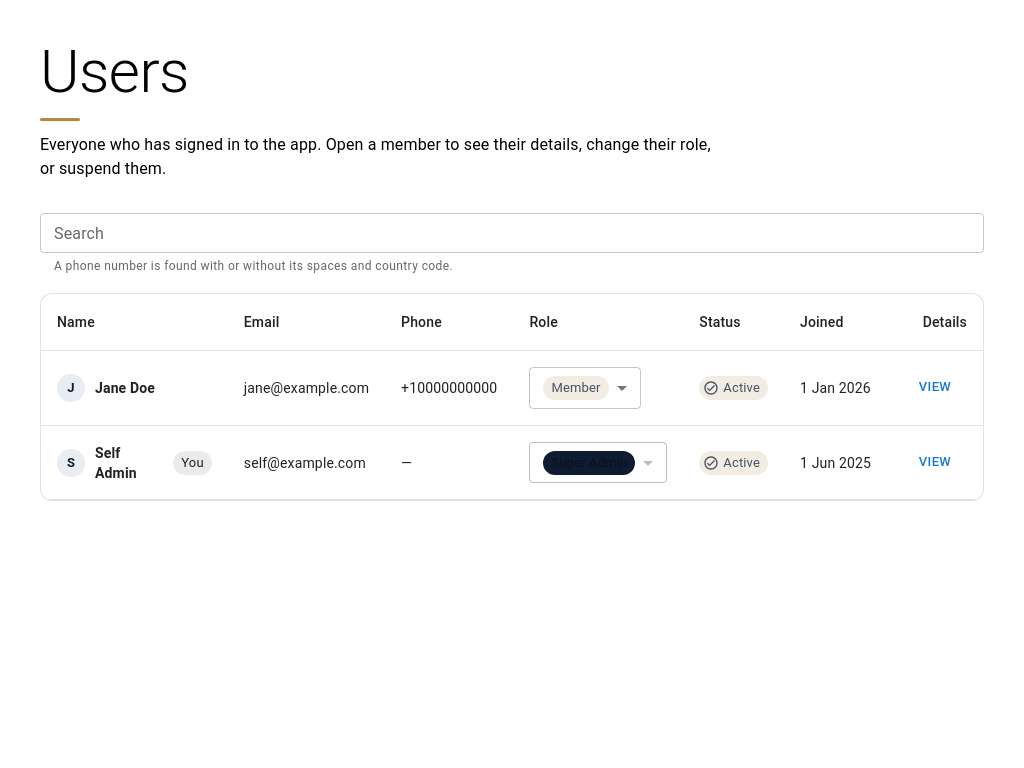
Test case: the suspension dialogue › offers temporary durations and a permanent option
expect the row with test id "user-row-other-uid" is shown: met, box x1=41 y1=350 x2=983 y2=425
Step 1. Click the button "View" in the row of "Jane Doe" → [935, 388], box x1=903 y1=372 x2=967 y2=403
(page scrolled)
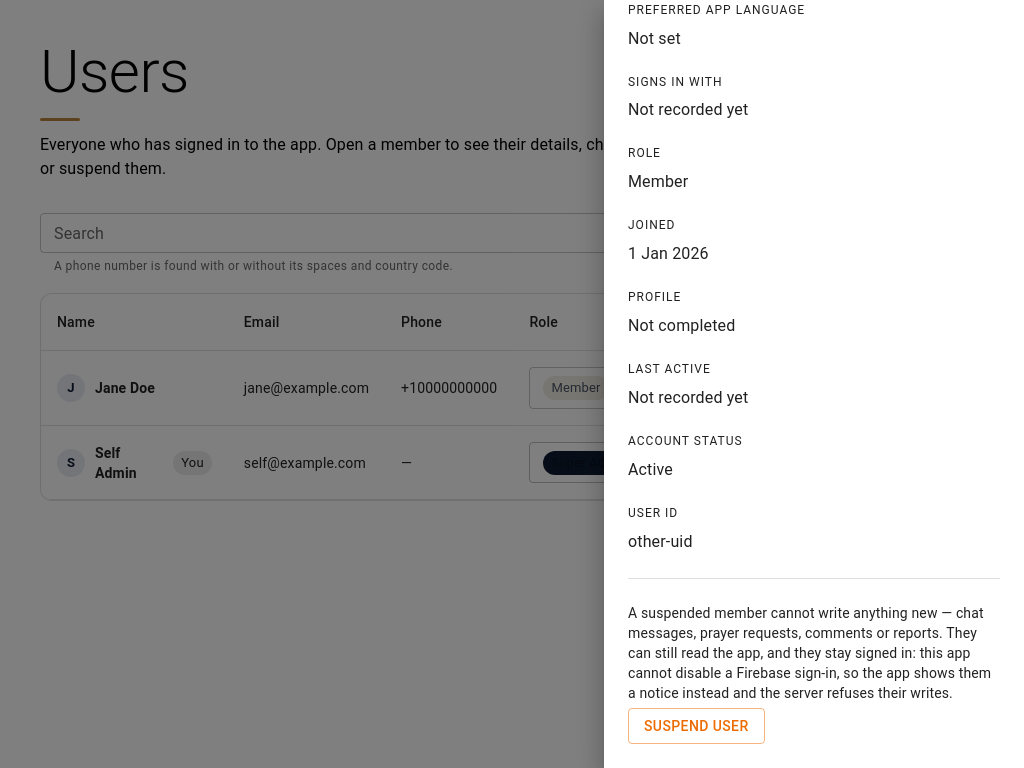
expect the element with test id "user-detail" is shown: met, box x1=604 y1=0 x2=1023 y2=767
Step 2. Click the button with test id "user-detail-suspend" → [696, 726], box x1=628 y1=708 x2=764 y2=744
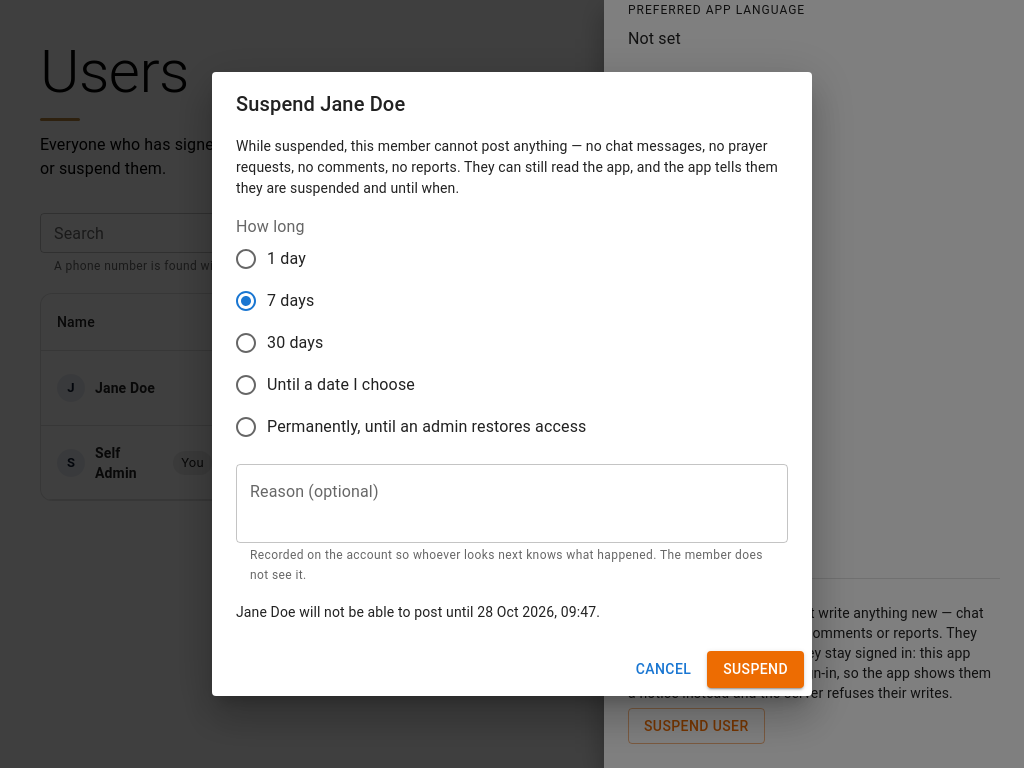
expect the button with test id "suspend-confirm" is shown: met, box x1=707 y1=651 x2=804 y2=688
expect the radio button labelled "1 day" is shown: met, box x1=234 y1=247 x2=306 y2=271
expect the radio button labelled "7 days" is shown: met, box x1=234 y1=289 x2=314 y2=313
